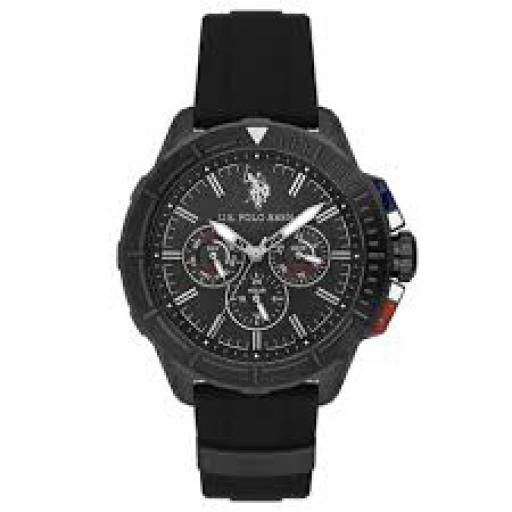KolSaati: (106, 5, 423, 511)
